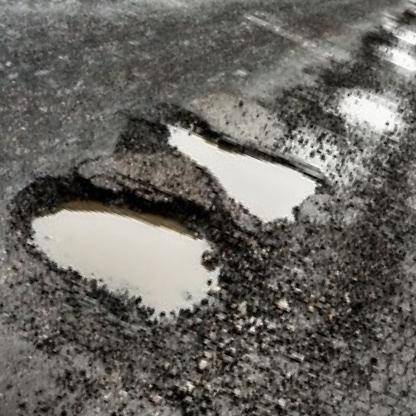pothole: (0, 142, 247, 347), (140, 101, 334, 246)
